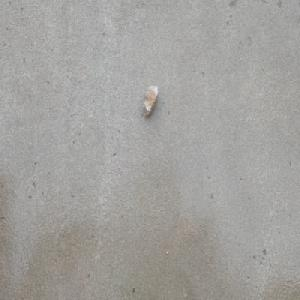Rock: (142, 84, 159, 118)
